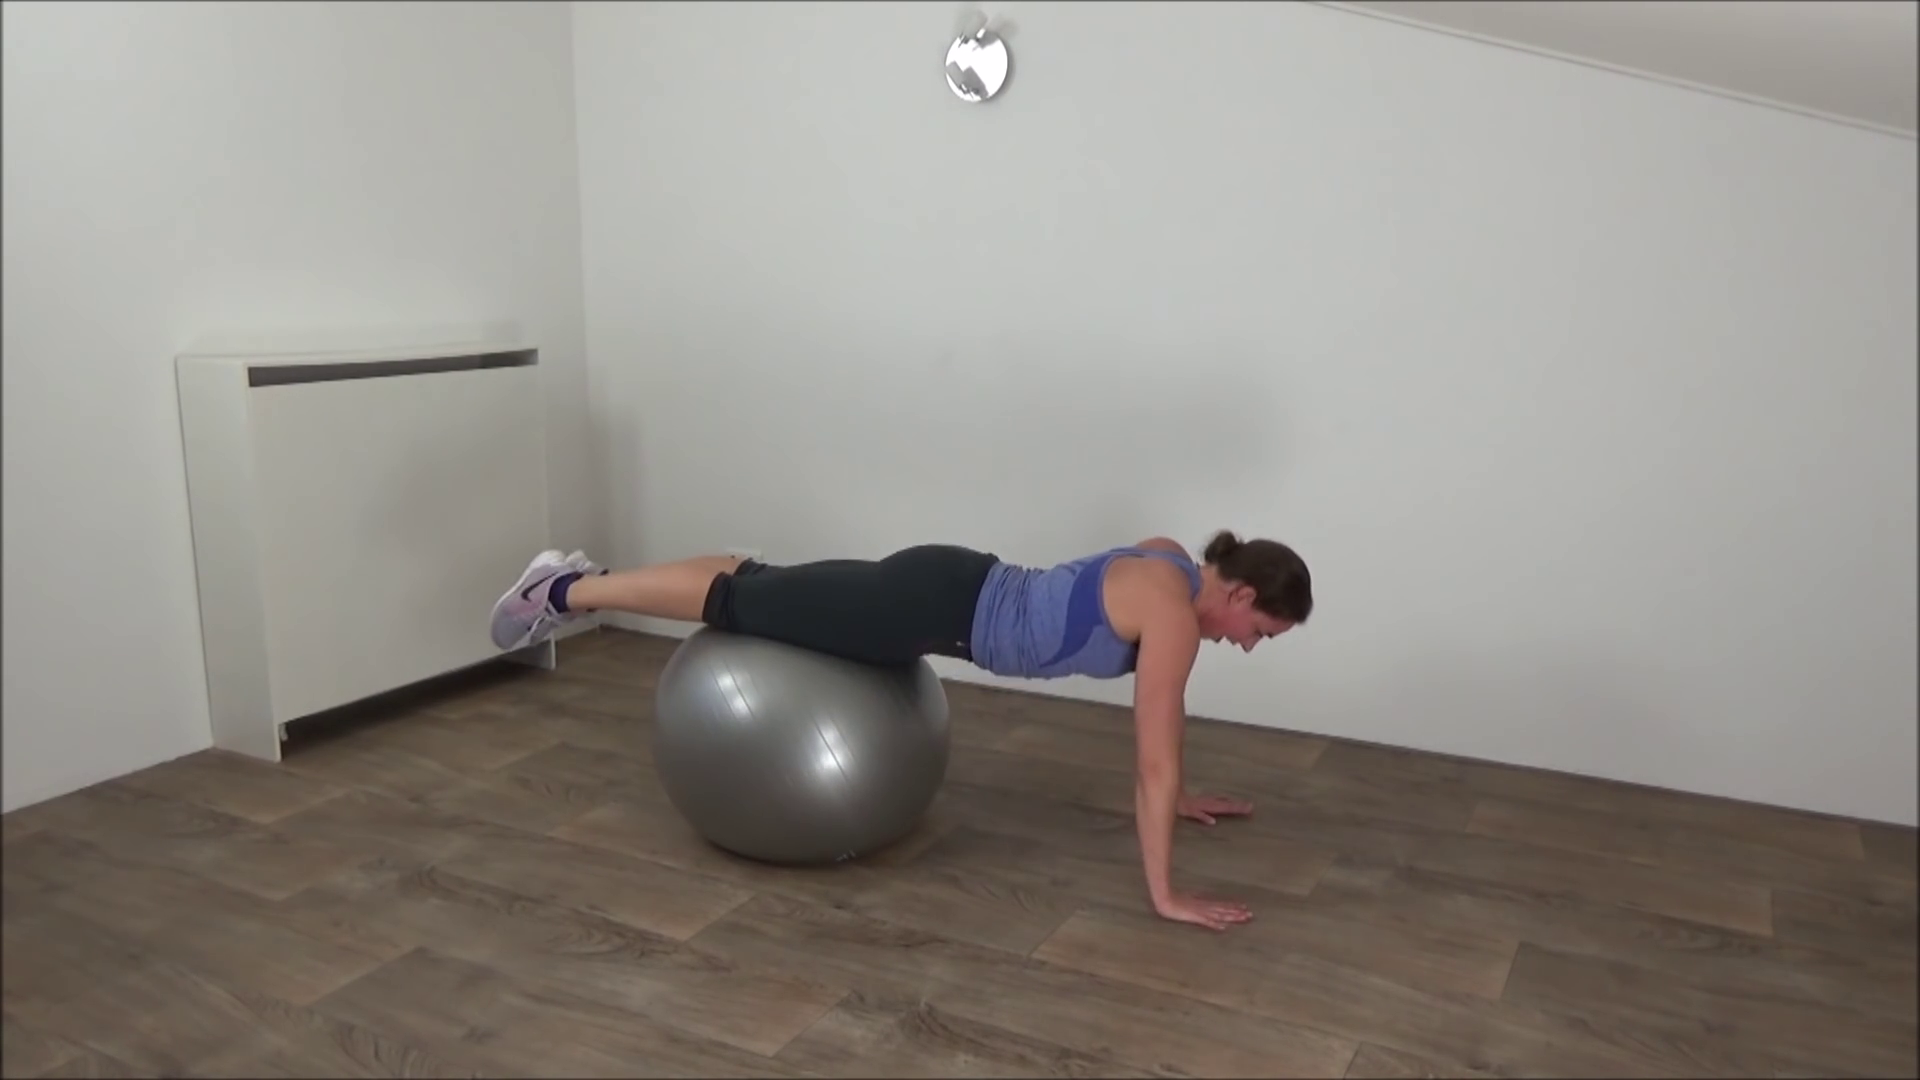yogaball: (624, 611, 968, 889)
